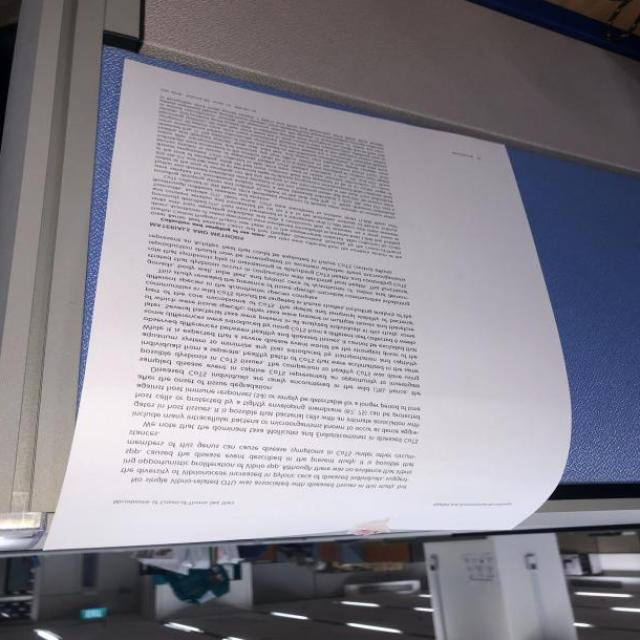kertas: (44, 58, 619, 629)
